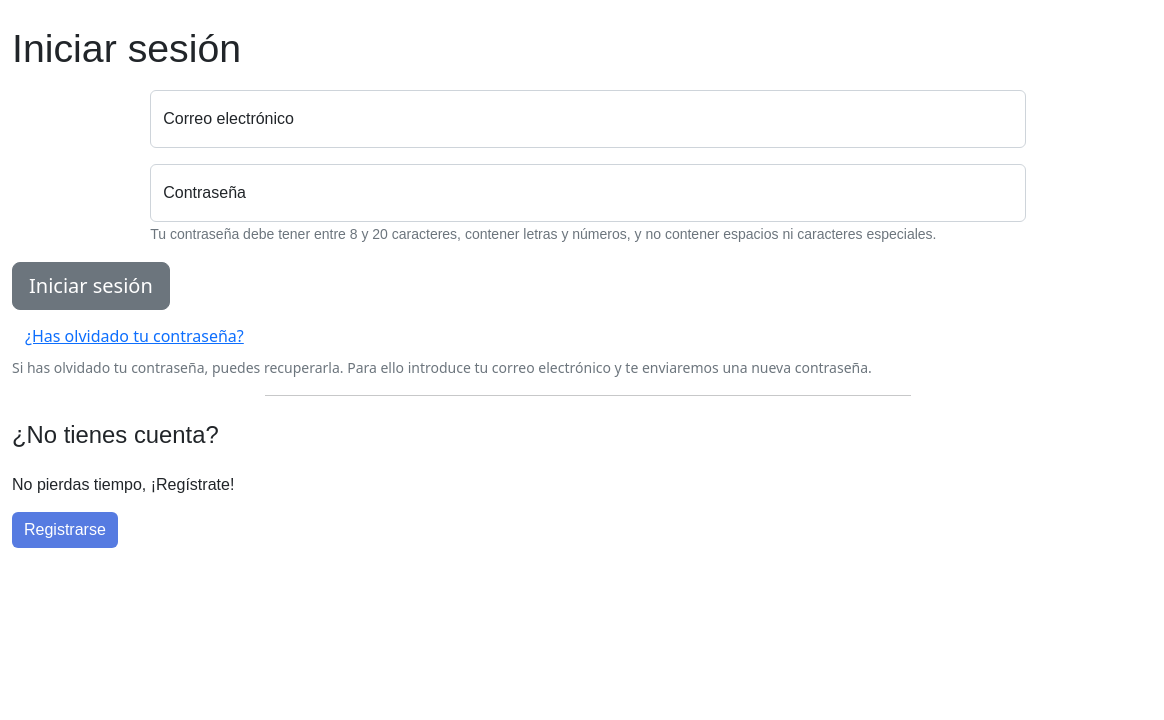
Test: Login › En caso de error en la contraseña o en el email muestra la alerta de "Correo electrónico o contraseña incorrectos." al pulsar el botón de iniciar sesión
The width and height of the screenshot is (1164, 720).
Expected: the field labelled "Correo electrónico" is shown, [150,90,1026,148]
Expected: the password field labelled "Contraseña" is shown, [150,164,1026,222]
Click the button "Iniciar sesión". click: point(91, 286)
box: [12,262,170,310]
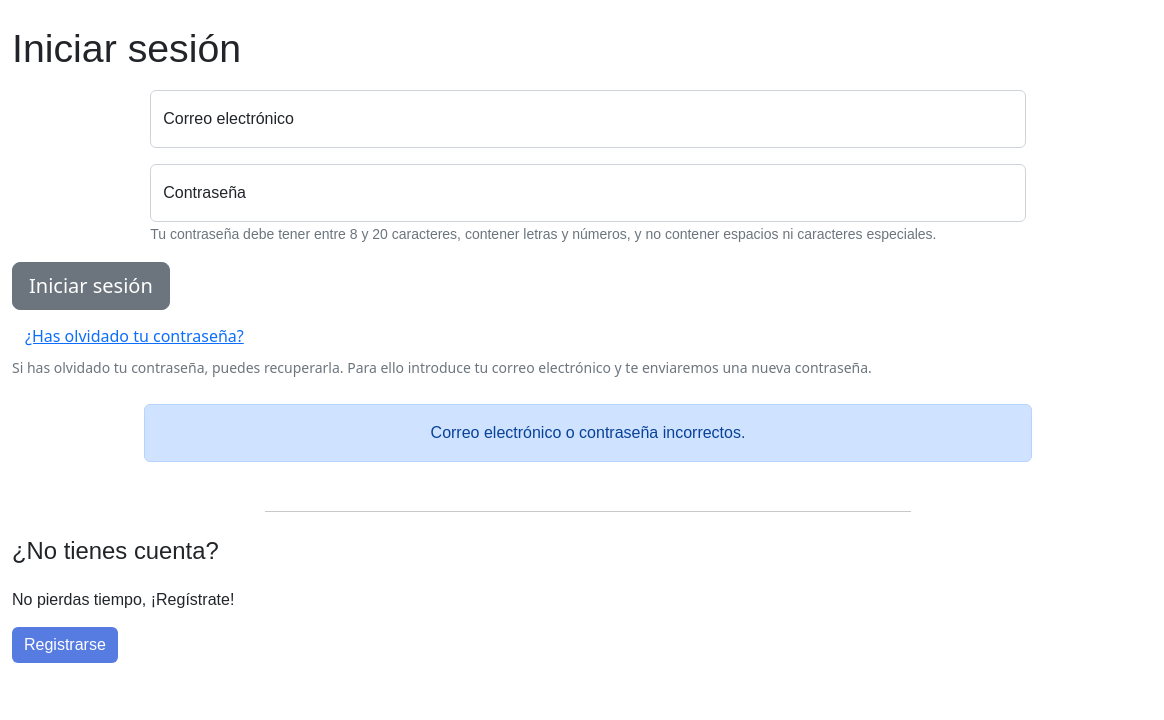
Expected: the text "Correo electrónico o contraseña incorrectos." is shown, [144,404,1032,462]
